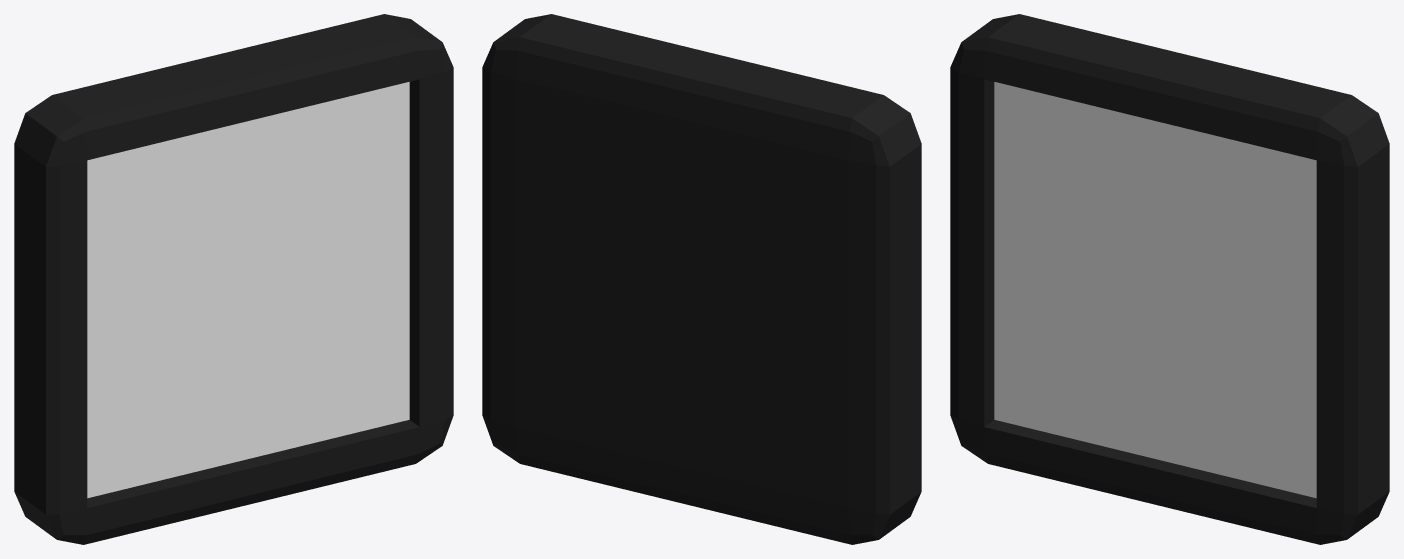
The model's file is CustomFrame.glb.
3 views of the same model, side by side, from view 1: azimuth 30°, elevation 25°; view 2: azimuth 150°, elevation 25°; view 3: azimuth 330°, elevation 25° (orthographic).
Visible parts, largest first — view 1: CustomFrame; view 2: CustomFrame; view 3: CustomFrame.
Part boxes in pixels (x1,y1,x2,y2): CustomFrame: [14, 14, 453, 544]; CustomFrame: [482, 14, 921, 544]; CustomFrame: [950, 14, 1389, 544].
Bounding box in the file's own units: 0.5 × 0.5 × 0.0825.
1 material, 1 textured.
